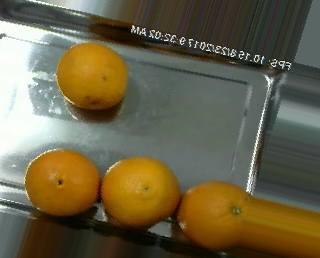Orange: (101, 155, 180, 226), (24, 147, 99, 215), (56, 42, 128, 109)
